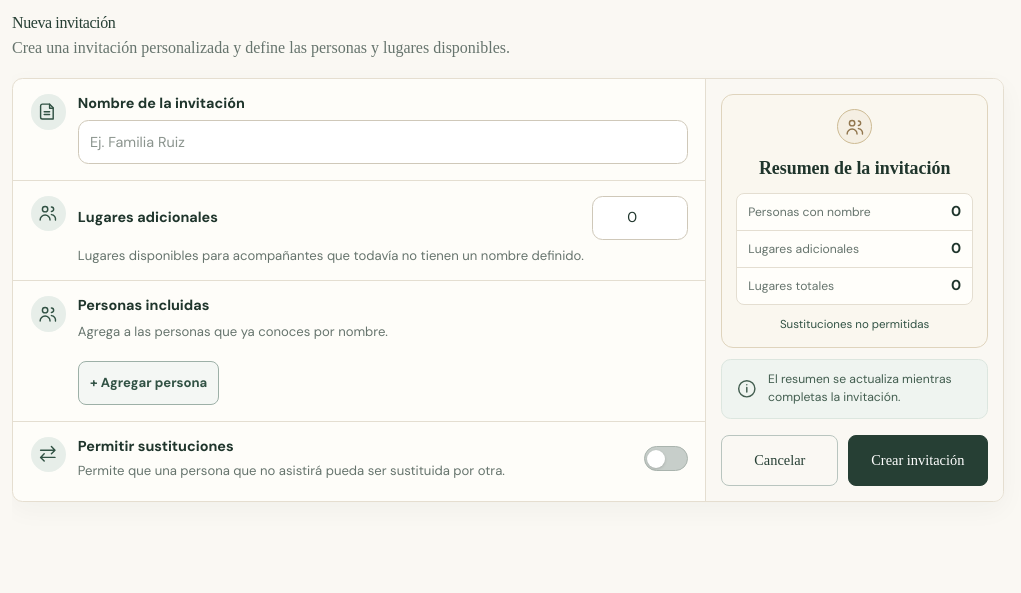
Scenario: feedback al crear una invitación › mantiene las validaciones de campos inline y no las convierte en toast
The image size is (1021, 593).
Check: the heading "Nueva invitación" is shown, box left=12, top=14, right=115, bottom=31
Click the button "Crear invitación": (918, 460) left=848, top=435, right=988, bottom=486
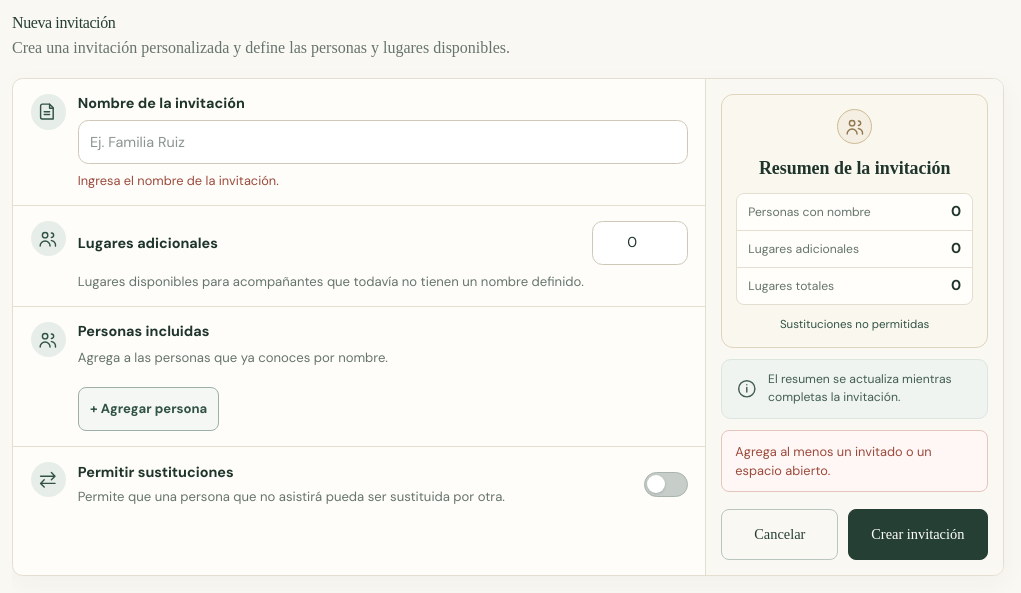
Check: the text "Ingresa el nombre de la invitación." is shown, box left=78, top=172, right=279, bottom=189
Check: the text "Agrega al menos un invitado o un espacio abierto." is shown, box left=722, top=430, right=988, bottom=492
